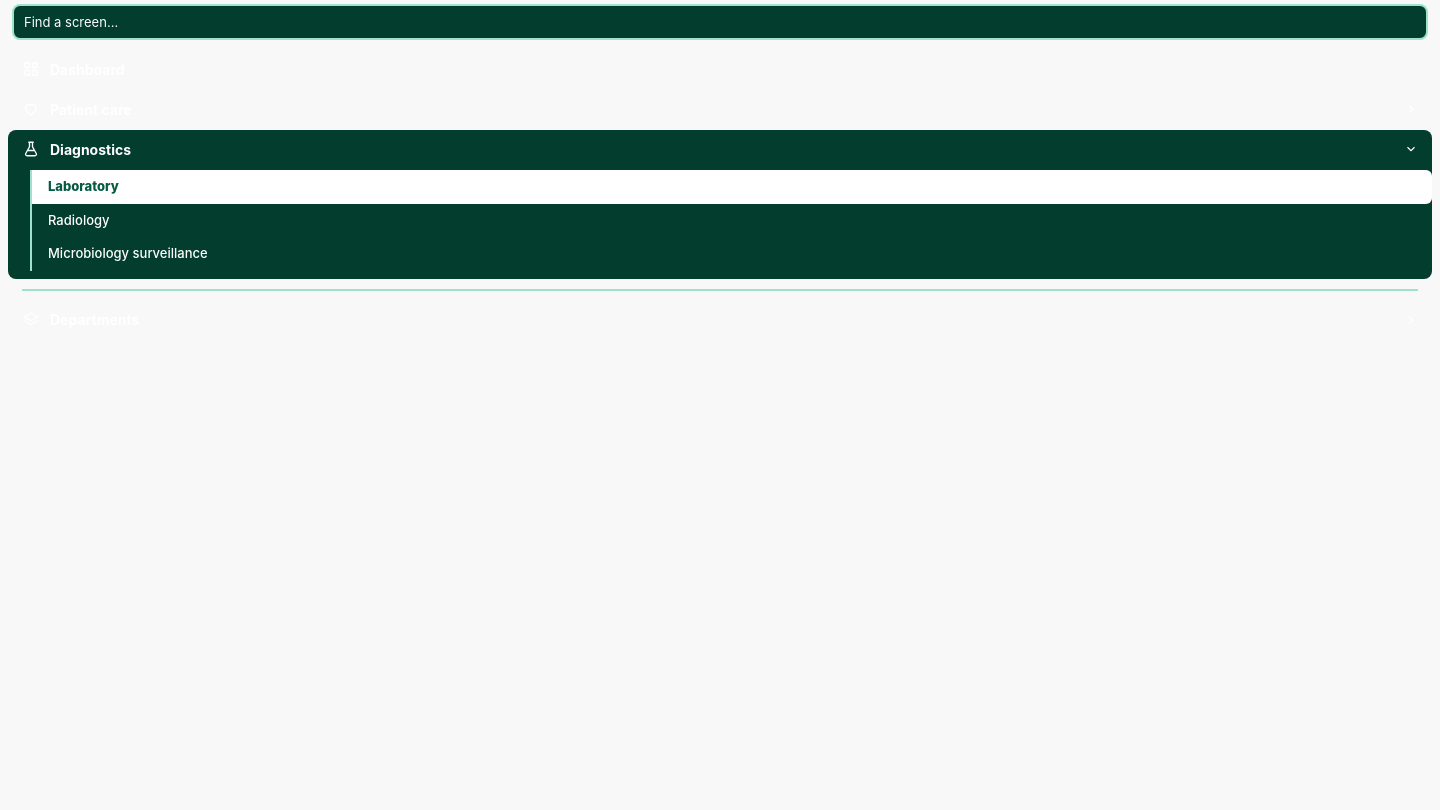
Test case: main menu › finds a screen by typing and opens it with Enter
The image size is (1440, 810).
Later steps or results of the test are not shown.
Type "radio" into the search field named "Find a screen in the menu" at (720, 22), box [12,4,1428,40]
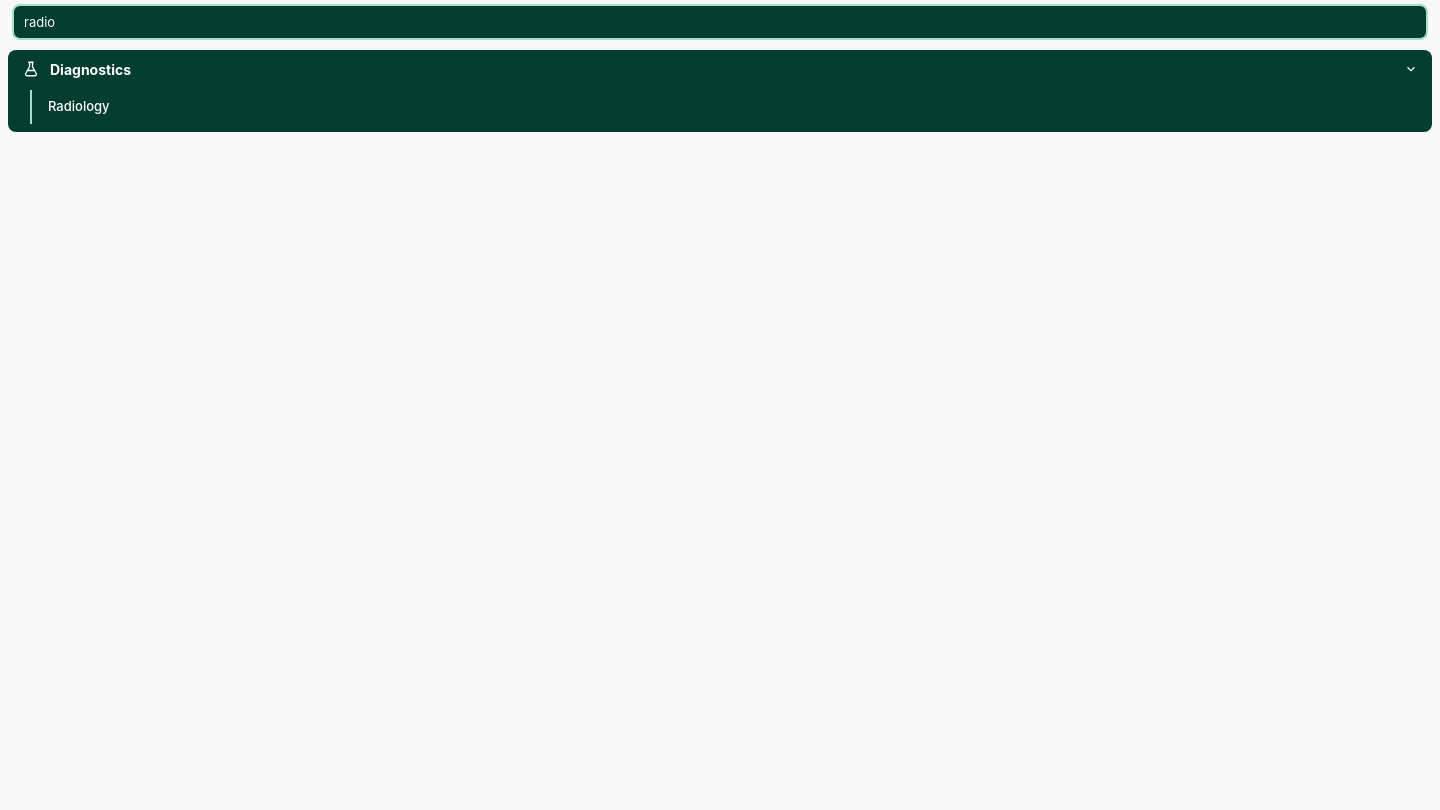
Result: the button "Laboratory" is gone
